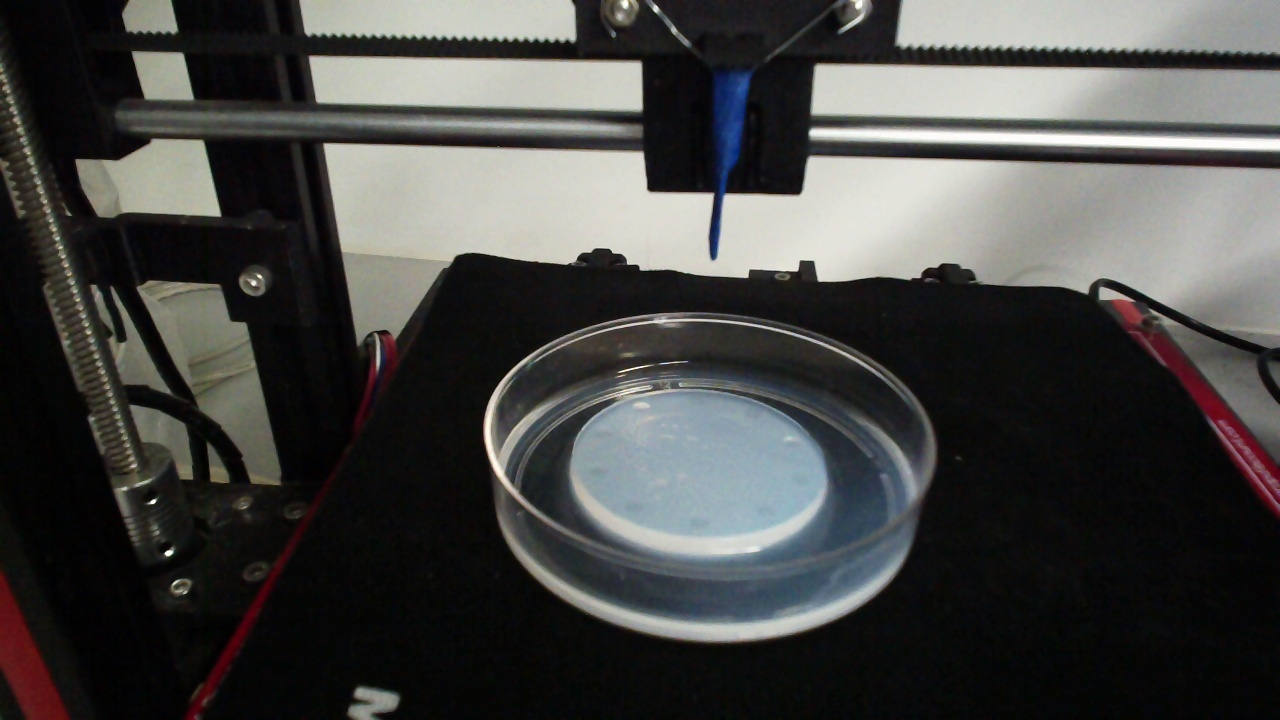groove: (788, 472, 810, 489), (688, 514, 710, 530), (743, 405, 765, 421), (754, 504, 775, 520), (782, 435, 803, 450), (623, 500, 645, 514), (588, 464, 609, 478), (592, 428, 612, 441), (686, 394, 705, 407), (631, 401, 651, 413)
needle: (709, 70, 750, 262)
